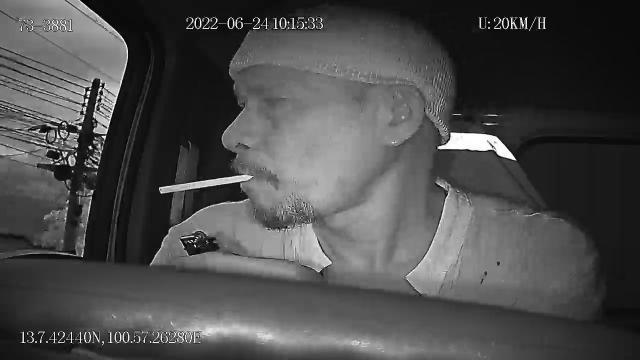Smoking: (157, 174, 257, 194)
